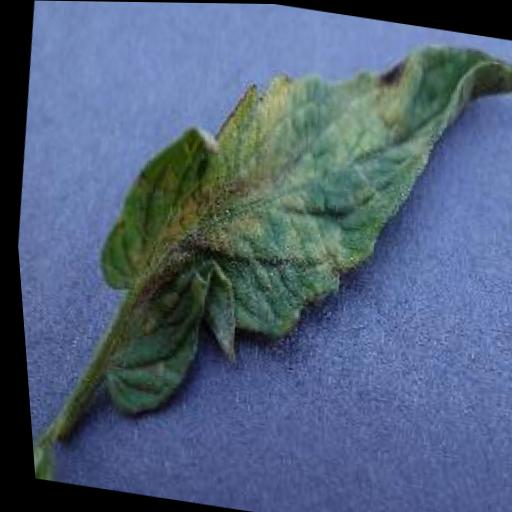Leaf Mold: (60, 1, 512, 471)
